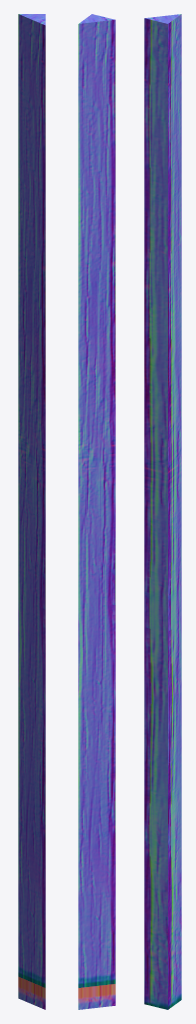
The model's file is HsWallCor4B01.fbx.
3 views of the same model, side by side, from view 1: azimuth 90°, elevation 25°; view 2: azimuth 150°, elevation 25°; view 3: azimuth 330°, elevation 25° (orthographic).
Visible parts, largest first — view 1: HsWallCor4B01; view 2: HsWallCor4B01; view 3: HsWallCor4B01.
Boxes of the visible parts, x1,y1,x2,y2 form: HsWallCor4B01: (18,14,45,1009); HsWallCor4B01: (78,14,115,1009); HsWallCor4B01: (144,14,181,1009).
Size of the model in its own units: 10 by 400 by 10.
